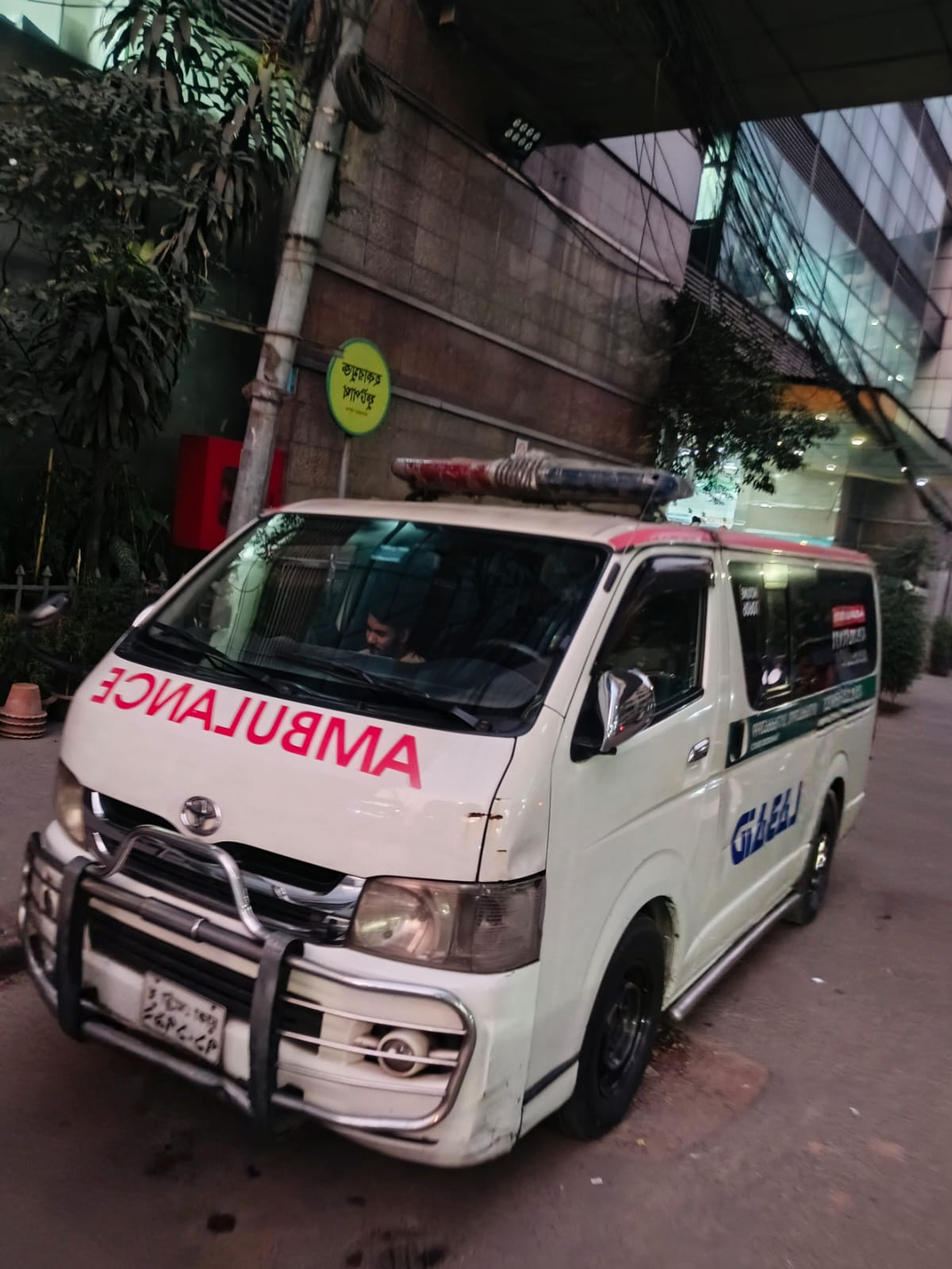Ambulance: (32, 416, 914, 1202)
